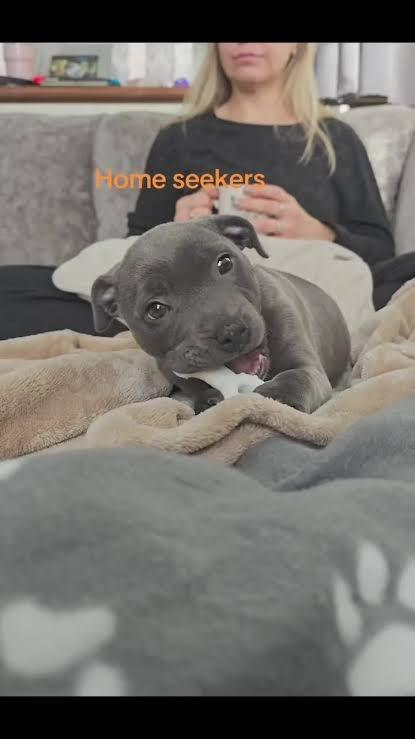non-dog: (122, 41, 398, 300)
puppy-dog: (89, 215, 354, 425)
